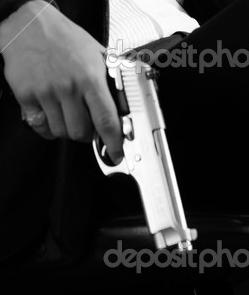gun: (1, 1, 249, 295)
